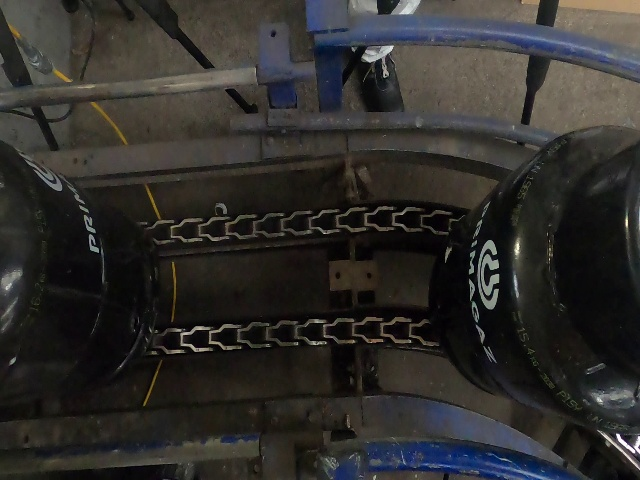gas_bottle: (58, 40, 630, 480)
